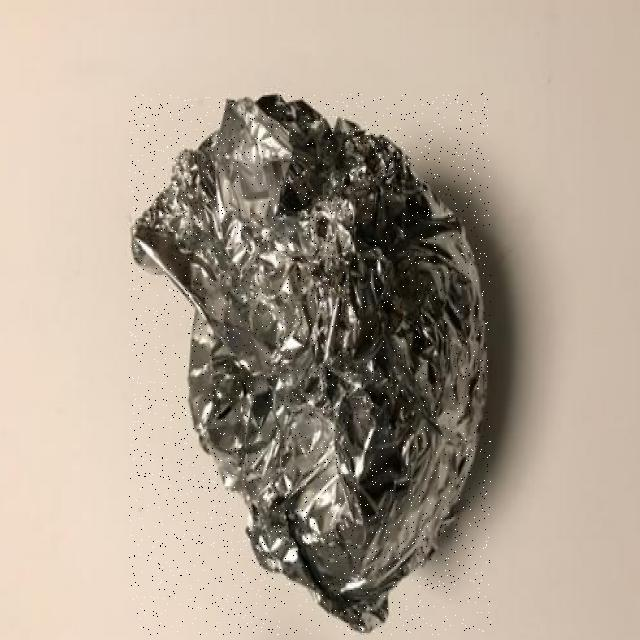metal: (130, 94, 491, 635)
